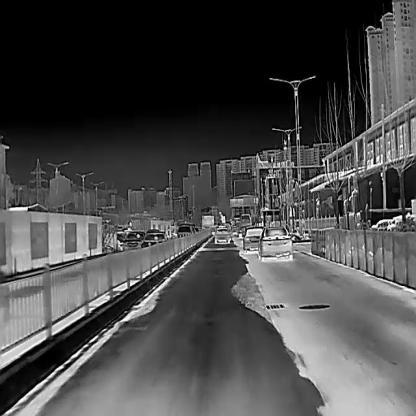car: (258, 226, 293, 260), (243, 227, 266, 250), (142, 231, 167, 249), (124, 231, 145, 250), (214, 227, 231, 245), (176, 225, 192, 237), (238, 212, 251, 224)
